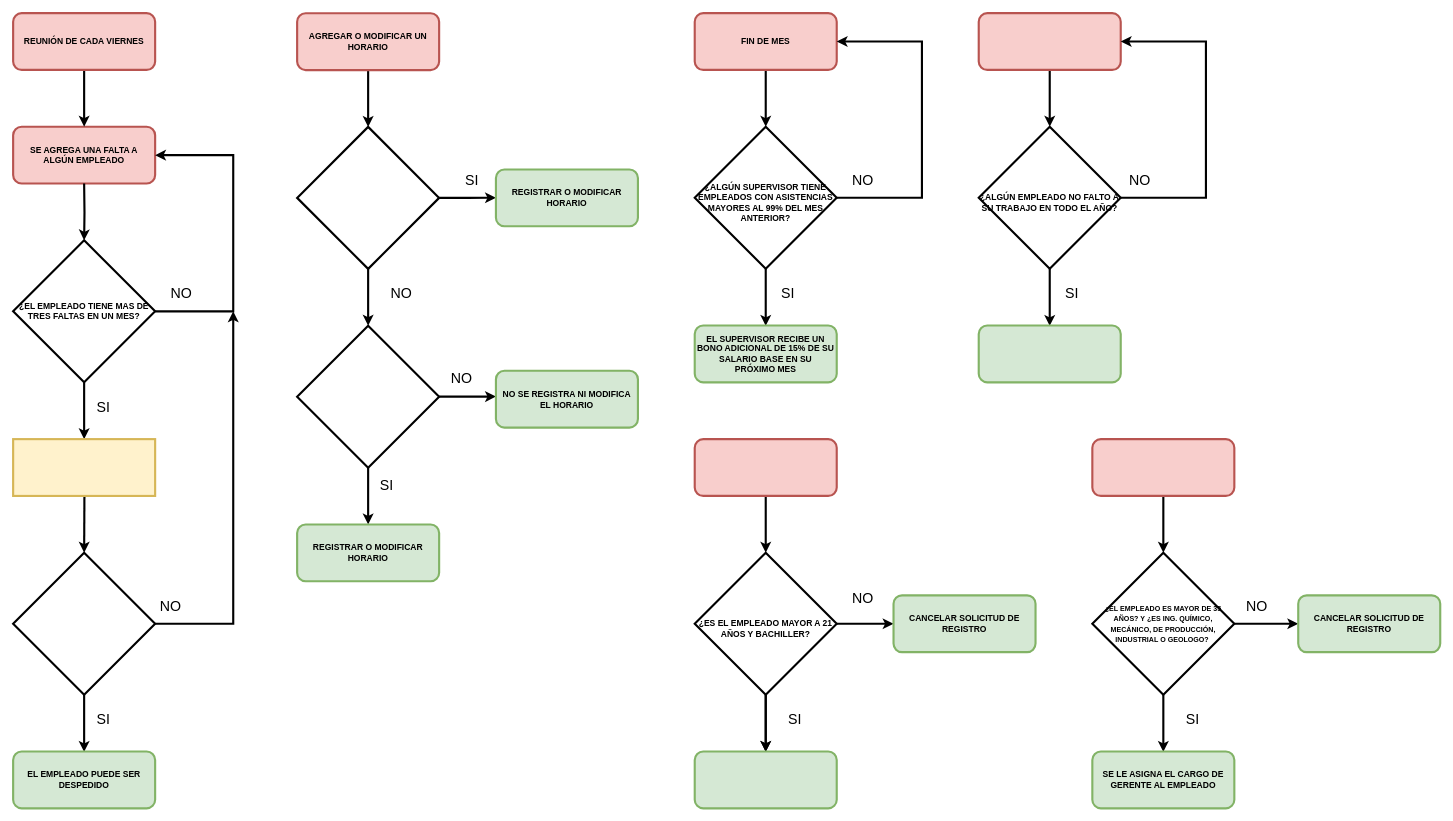
Some shapes in this 1453 by 821 pixel diagram are drawn without their labels. The shapes that lost their labels are listed below. From the top down, each one's centre as x and y in pixels, then its label:
At point 1049,41: "FIN DE AÑO".
At point 368,197: "¿ES UN TURNO?".
At point 1049,353: "EL EMPLEADO RECIBE UN BONO EQUIVALENTE A 5 MESES DE SU SALARIO BASE".
At point 368,396: "¿EL HORARIO ESTA COMPRENDIDO ENTRE LAS HORAS DE LA FABRICA?".
At point 84,467: "EL EMPLEADO RECIBE UNA AMONESTACIÓN".
At point 765,467: "REGISTRAR UN EMPLEADO".
At point 1163,467: "SOLICITUD PARA QUE UN EMPLEADO SEA GERENTE".
At point 84,623: "¿EL EMPLEADO TIENE 2 AMONESTACIONES EN UN PERIODO MENOR A TRES MESES?".
At point 765,779: "REGISTRAR EMPLEADO".
